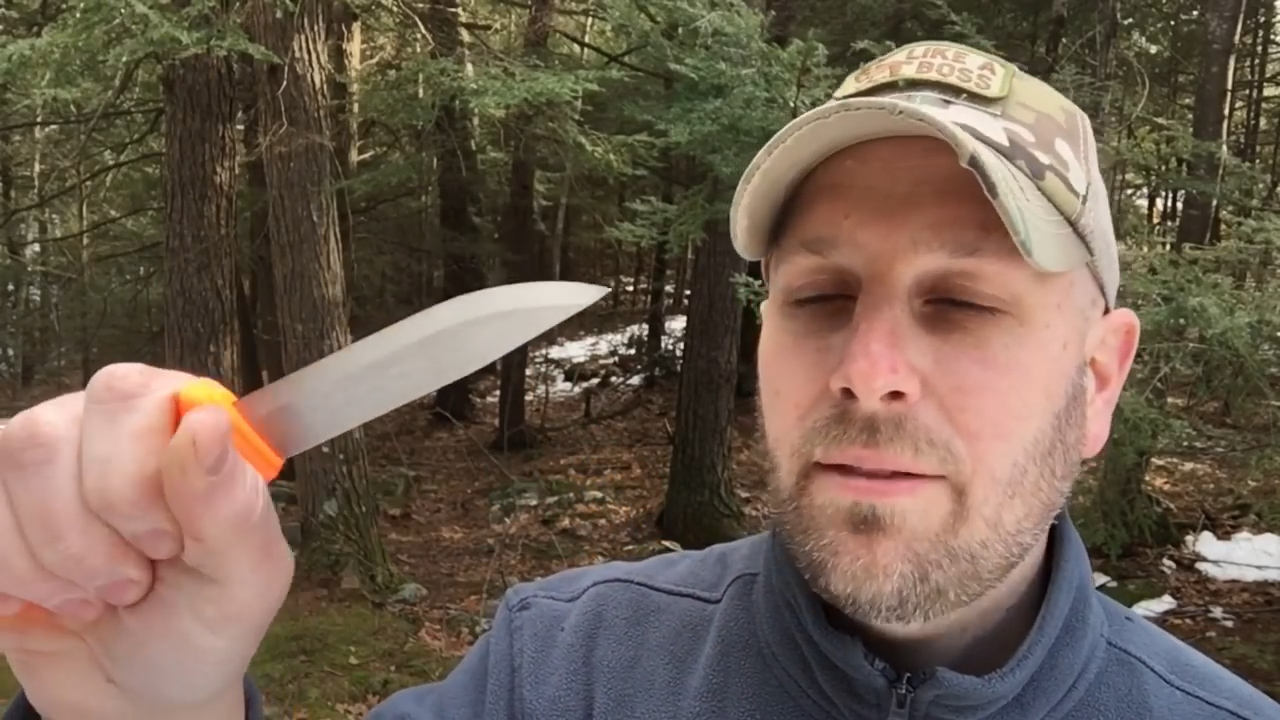knife: (1, 261, 632, 549)
